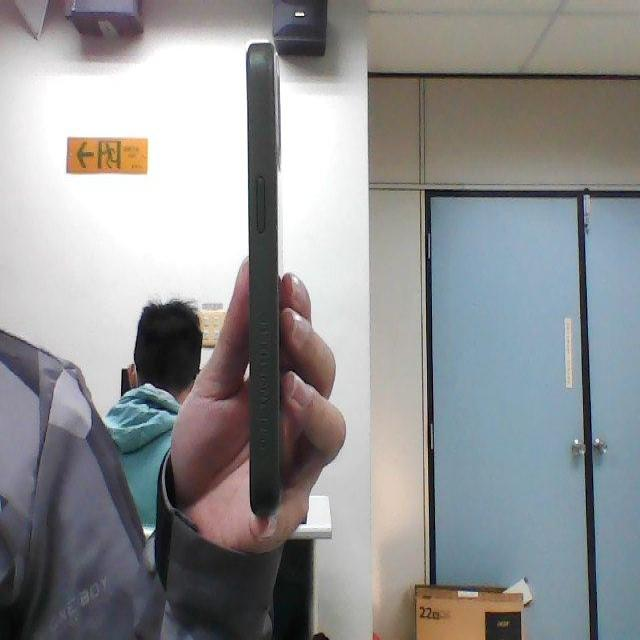Smartphone: (239, 33, 293, 533)
